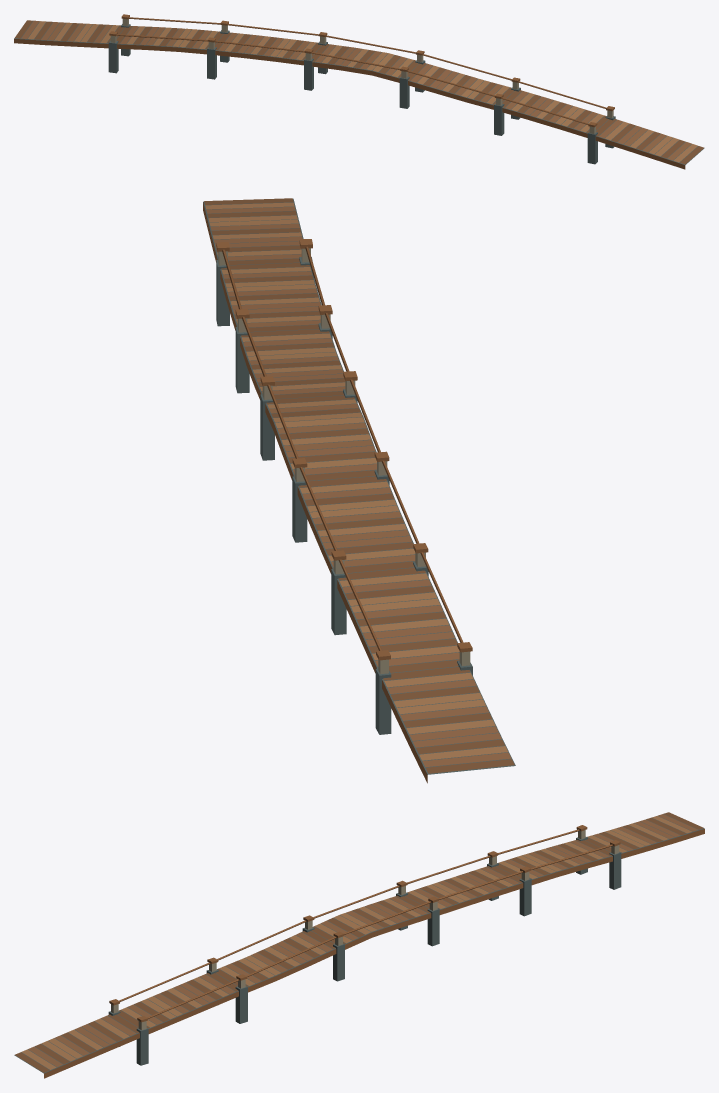
The model's file is 3_mineral_spring_1.glb.
The picture shows the model from 3 angles, top to bottom: view 1: azimuth 30°, elevation 25°; view 2: azimuth 150°, elevation 25°; view 3: azimuth 270°, elevation 25°; orthographic projection. The views are drawn at different scales.
Visible parts, largest first — view 1: Detail_12_14, Deck_12_14-col, Detail_12_13; view 2: Detail_12_14, Deck_12_14-col, Detail_12_13; view 3: Detail_12_14, Deck_12_14-col, Detail_12_13.
Boxes of the visible parts, x1=… form: Detail_12_14: x1=47, y1=14, x2=703, y2=169; Deck_12_14-col: x1=47, y1=23, x2=704, y2=165; Detail_12_13: x1=14, y1=20, x2=72, y2=45; Detail_12_14: x1=203, y1=198, x2=492, y2=734; Deck_12_14-col: x1=203, y1=198, x2=499, y2=741; Detail_12_13: x1=395, y1=709, x2=514, y2=783; Detail_12_14: x1=15, y1=825, x2=662, y2=1078; Deck_12_14-col: x1=14, y1=823, x2=675, y2=1073; Detail_12_13: x1=628, y1=812, x2=704, y2=851.
Bounding box in the file's own units: 26.94 × 3.74 × 32.56.
